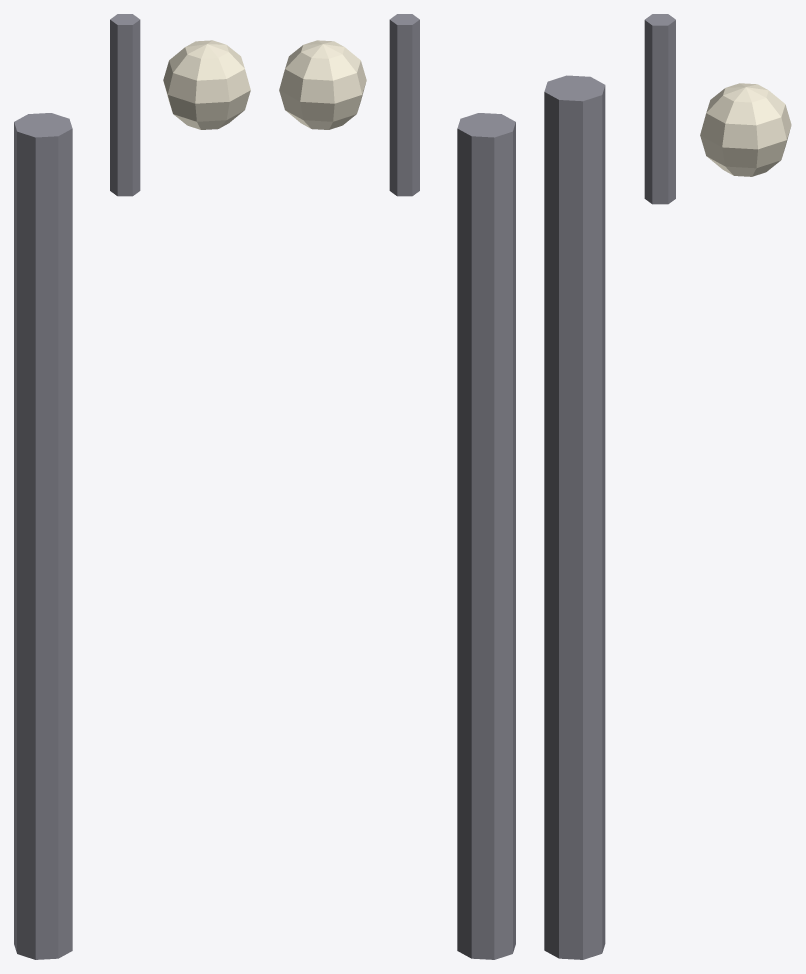
The model's file is lamp.glb.
The picture shows the model from 3 angles, left to right: view 1: azimuth 30°, elevation 25°; view 2: azimuth 150°, elevation 25°; view 3: azimuth 330°, elevation 25°; orthographic projection. The views are drawn at different scales.
Parts seen in each view (by area): view 1: lamp; view 2: lamp; view 3: lamp.
Boxes of the visible parts, x1,y1,x2,y2 form: lamp: (14, 14, 250, 959); lamp: (279, 14, 515, 959); lamp: (544, 14, 791, 959).
Bounding box in the file's own units: 0.35 × 1.33 × 0.12.
